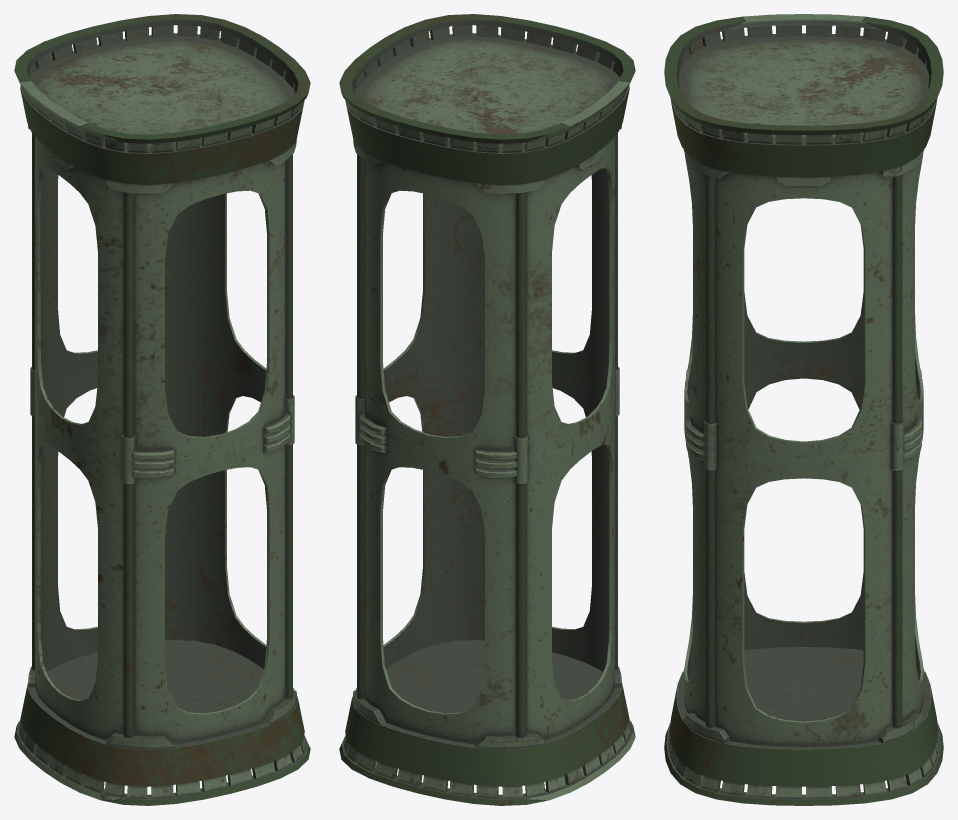
Rendered from ChemTube.fbx.
3 views of the same model, side by side, from view 1: azimuth 30°, elevation 25°; view 2: azimuth 150°, elevation 25°; view 3: azimuth 270°, elevation 25° (orthographic).
Visible parts, largest first — view 1: Cube.048; view 2: Cube.048; view 3: Cube.048.
Boxes of the visible parts, x1,y1,x2,y2 form: Cube.048: (14, 14, 310, 805); Cube.048: (339, 14, 635, 805); Cube.048: (664, 14, 943, 805).
Size of the model in its own units: 0.9977 by 2.69 by 1.01.
